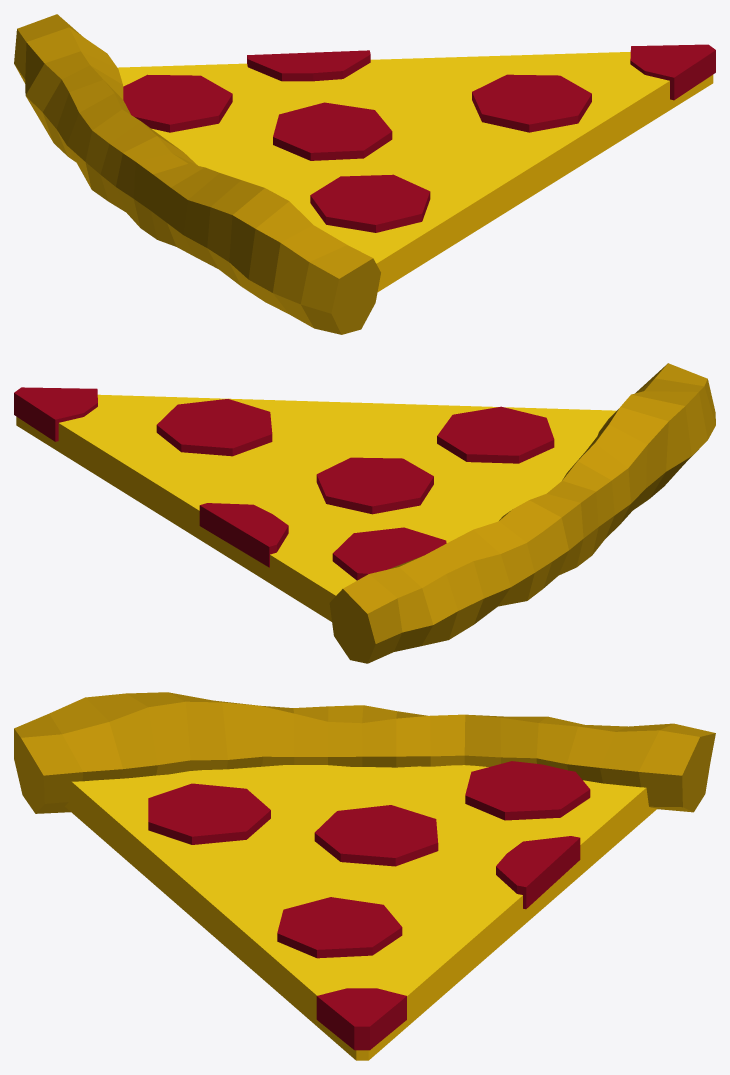
File: chicken_acc_pizza.fbx
3 views of the same model, one above another, from view 1: azimuth 30°, elevation 25°; view 2: azimuth 150°, elevation 25°; view 3: azimuth 270°, elevation 25° (orthographic). The views are drawn at different scales.
Parts seen in each view (by area): view 1: Cube; view 2: Cube; view 3: Cube.
Boxes of the visible parts, box(x1,y1,x2,y2) form: Cube: box(14, 14, 715, 334); Cube: box(14, 363, 715, 663); Cube: box(14, 692, 715, 1060).
Size of the model in its own units: 1086 by 178 by 1087.
